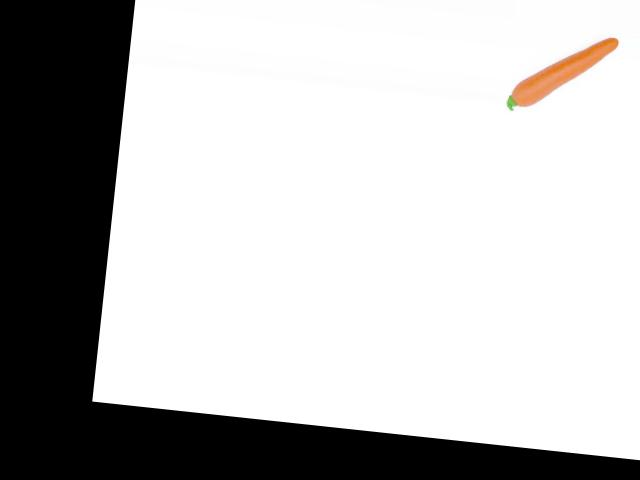carrot: (510, 22, 620, 120)
